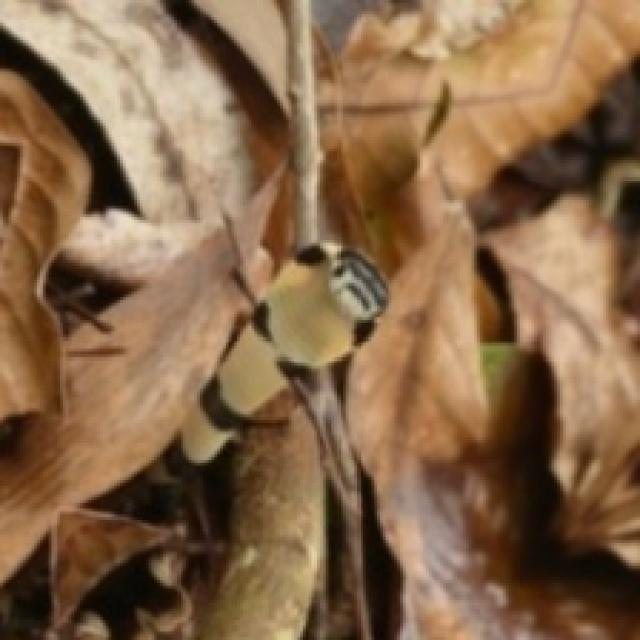king cobra: (214, 243, 386, 414)
